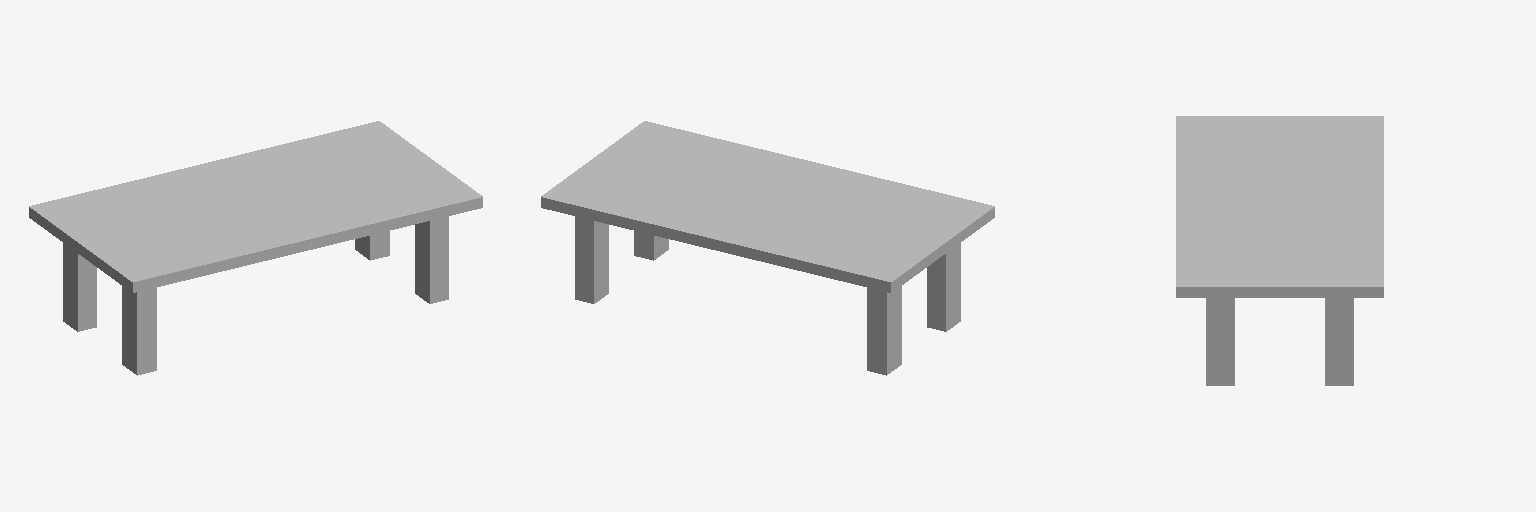
File: ring_toss_table.obj
3 views of the same model, side by side, from view 1: azimuth 30°, elevation 25°; view 2: azimuth 150°, elevation 25°; view 3: azimuth 270°, elevation 25° (orthographic).
Visible parts, largest first — view 1: Cube; view 2: Cube; view 3: Cube.
Part boxes in pixels (x1,y1,x2,y2): Cube: (29,121,482,375); Cube: (541,121,994,375); Cube: (1176,116,1383,385).
Size of the model in its own units: 8.63 by 2.56 by 4.43.